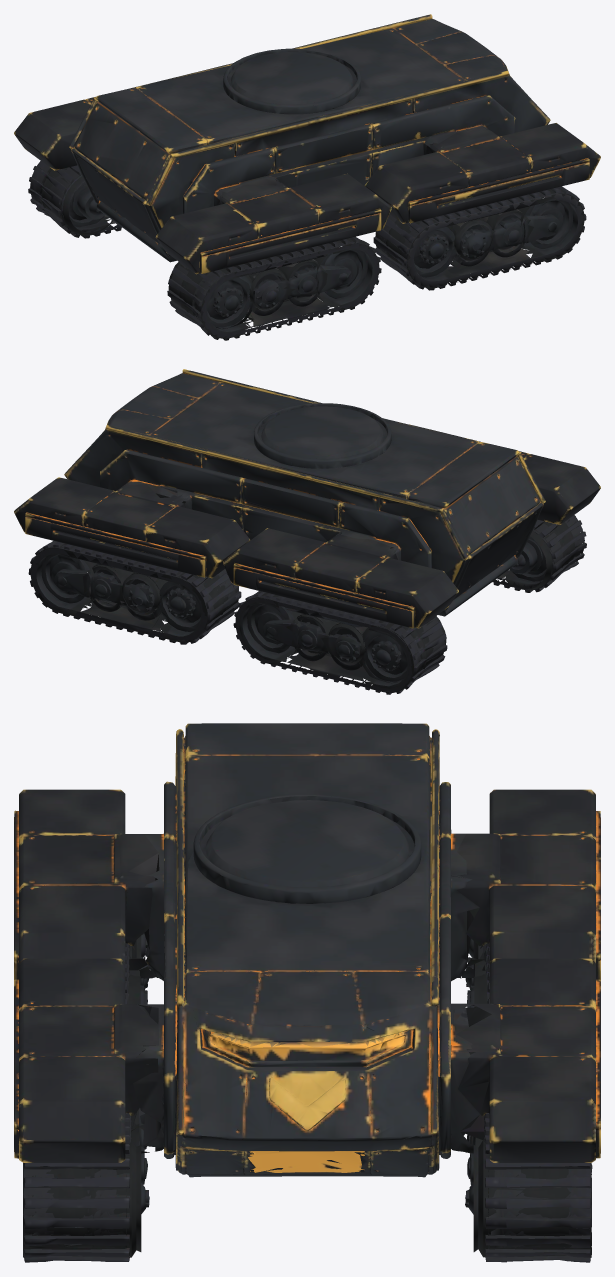
Rendered from chassis-titan-2-full.glb.
3 views of the same model, one above another, from view 1: azimuth 30°, elevation 25°; view 2: azimuth 150°, elevation 25°; view 3: azimuth 270°, elevation 25° (orthographic). The views are drawn at different scales.
Parts seen in each view (by area): view 1: chassis-titan-2-full; view 2: chassis-titan-2-full; view 3: chassis-titan-2-full.
Part boxes in pixels (x1=…): chassis-titan-2-full: x1=14, y1=14, x2=600, y2=340; chassis-titan-2-full: x1=14, y1=369, x2=600, y2=694; chassis-titan-2-full: x1=14, y1=723, x2=600, y2=1262.
Size of the model in its own units: 3.1 by 1.18 by 2.28.
Materials: 1 (1 with a texture image).
